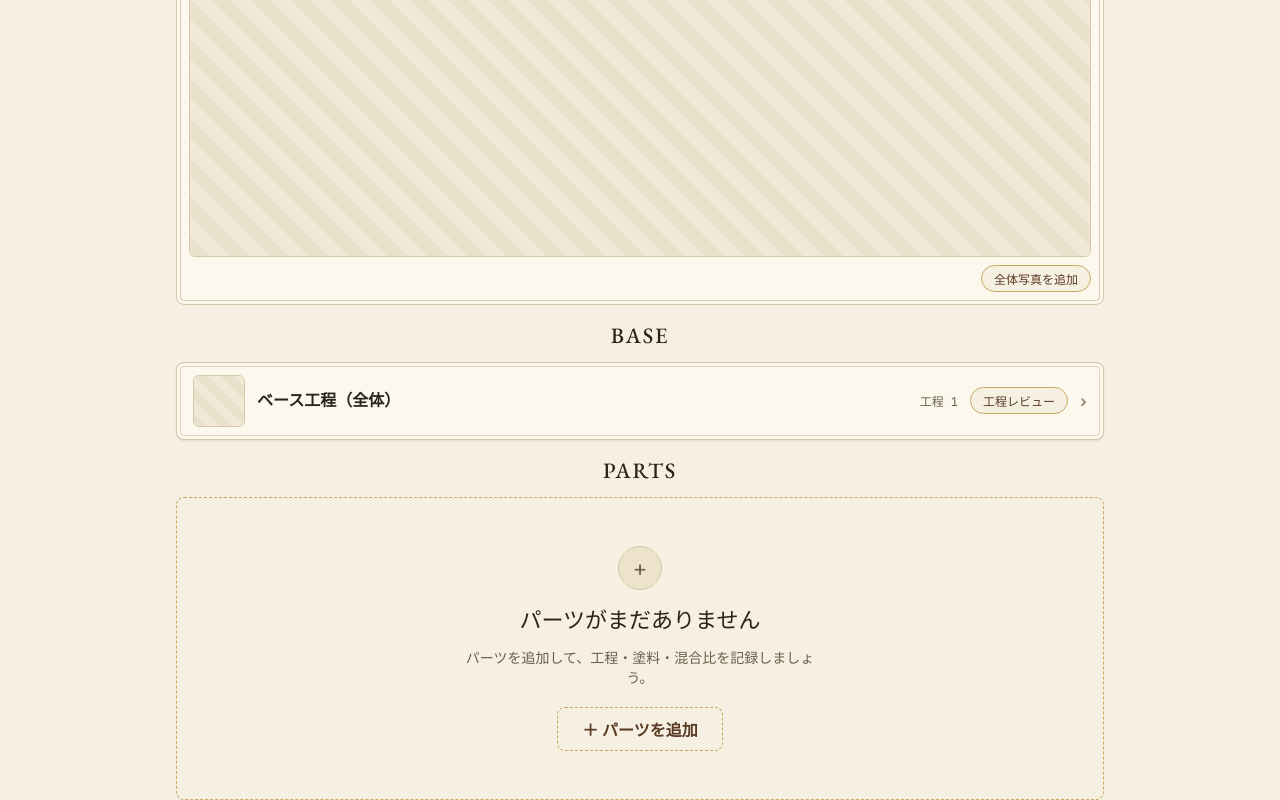
Test: RecipeOverviewPage — BASEセクション（PARTS同様の独立カード。2026-07-03） › BASEカードの「工程レビュー」でPartReviewDialogがbaseモードで開く（共有ボタンなし）
(page scrolled)
Expected: the text "ベース工程（全体）" is shown, [257, 390, 400, 410]
Click the button with test id "part-review-open" at (1019, 400), box [970, 387, 1068, 414]
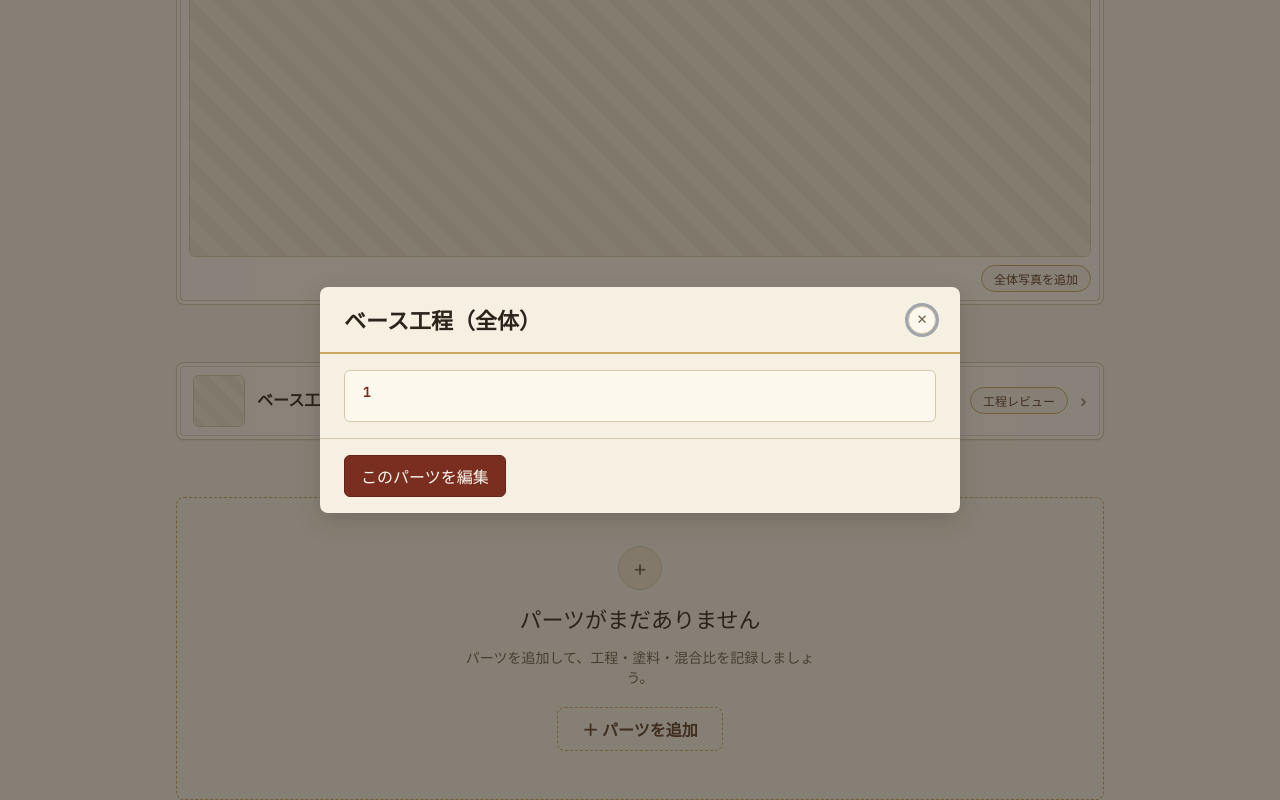
Now the dialog is shown, box [320, 287, 960, 513]
Now the heading "ベース工程（全体）" is shown, box [344, 303, 541, 336]
